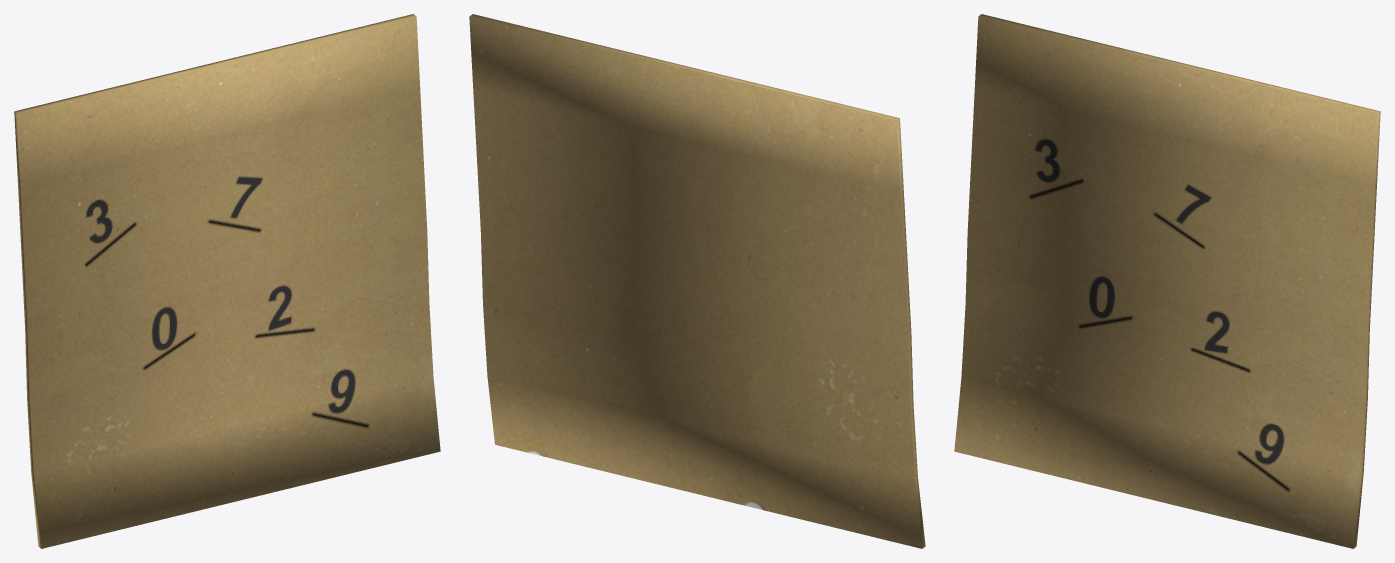
File: note_1.fbx
3 views of the same model, side by side, from view 1: azimuth 30°, elevation 25°; view 2: azimuth 150°, elevation 25°; view 3: azimuth 330°, elevation 25° (orthographic). The views are drawn at different scales.
Visible parts, largest first — view 1: note_1; view 2: note_1; view 3: note_1.
Boxes of the visible parts, x1,y1,x2,y2 form: note_1: (14, 14, 440, 548); note_1: (469, 14, 925, 548); note_1: (954, 14, 1380, 548).
Size of the model in its own units: 529 by 529 by 62.48.
1 material, 1 textured.
